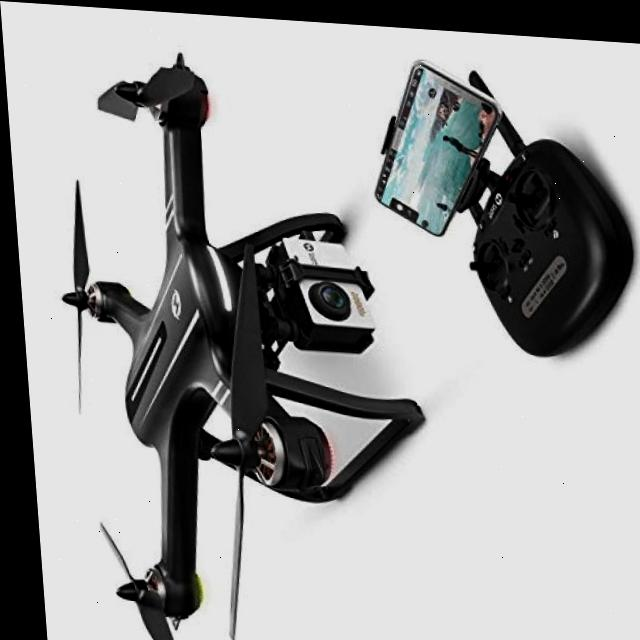drone: (24, 25, 403, 640)
